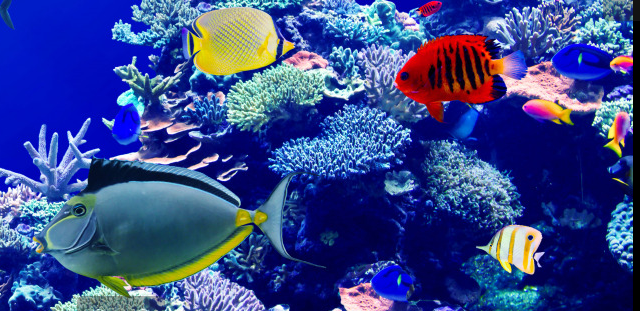fishRound: (30, 155, 328, 297), (391, 32, 529, 124), (180, 7, 295, 79), (474, 223, 546, 275), (549, 42, 614, 80), (368, 261, 414, 300)
fishSmall: (521, 96, 577, 128), (603, 108, 630, 158), (609, 54, 633, 75)
